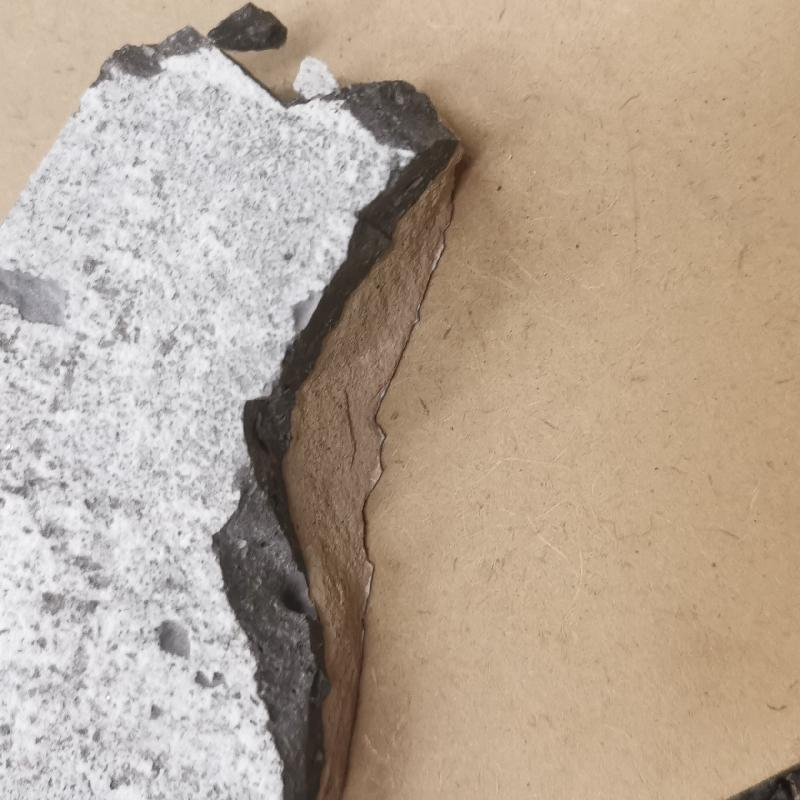tile: (2, 8, 467, 799)
